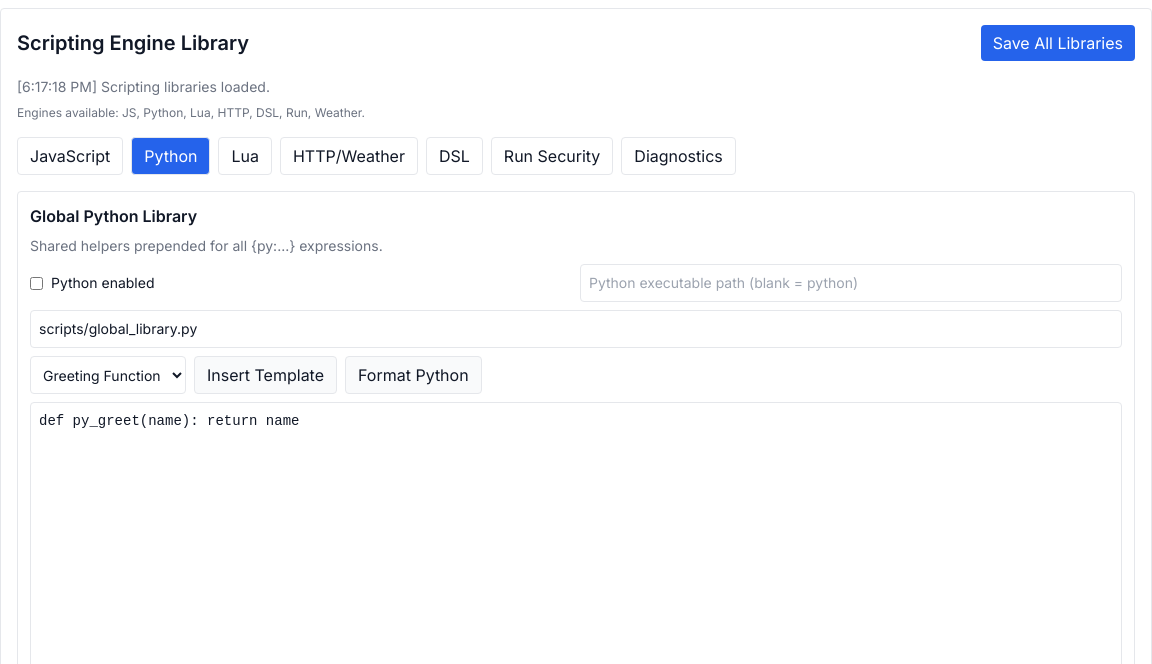
Test case: ScriptTab sub-tabs › runs quick test from HTTP/Weather tab
Check: the heading "Scripting Engine Library" is shown, box [17,29,249,57]
Click the button "HTTP/Weather": (349, 156) [280,137,418,175]
(page scrolled)
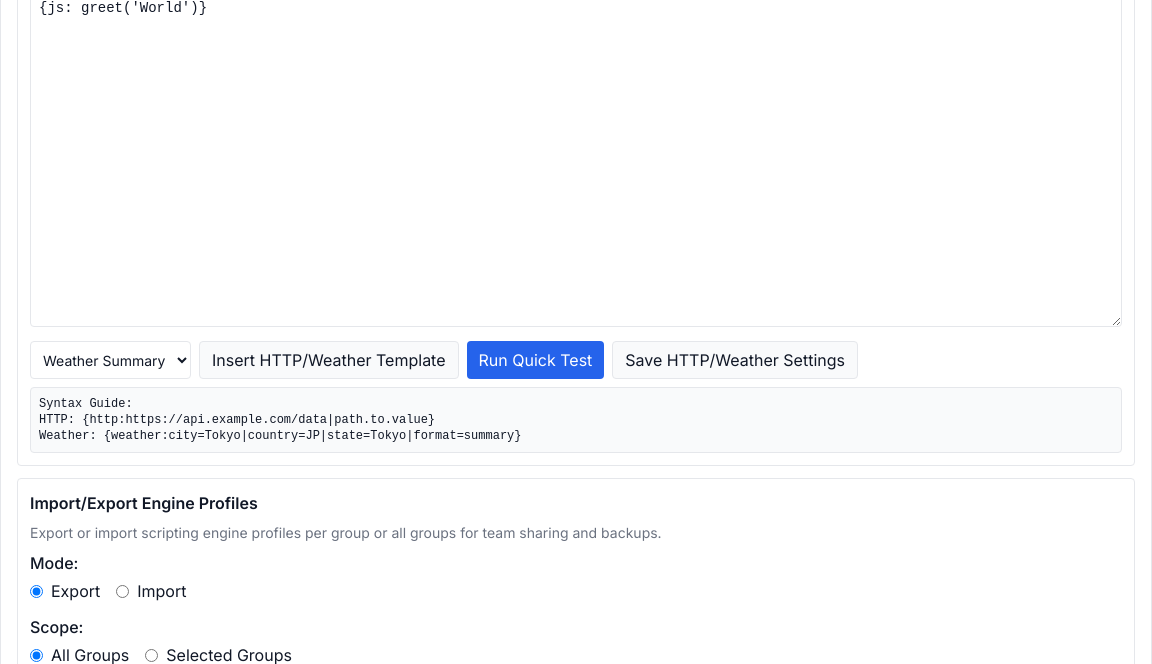
Click the button "Run Quick Test": (535, 360) [466,341,604,379]
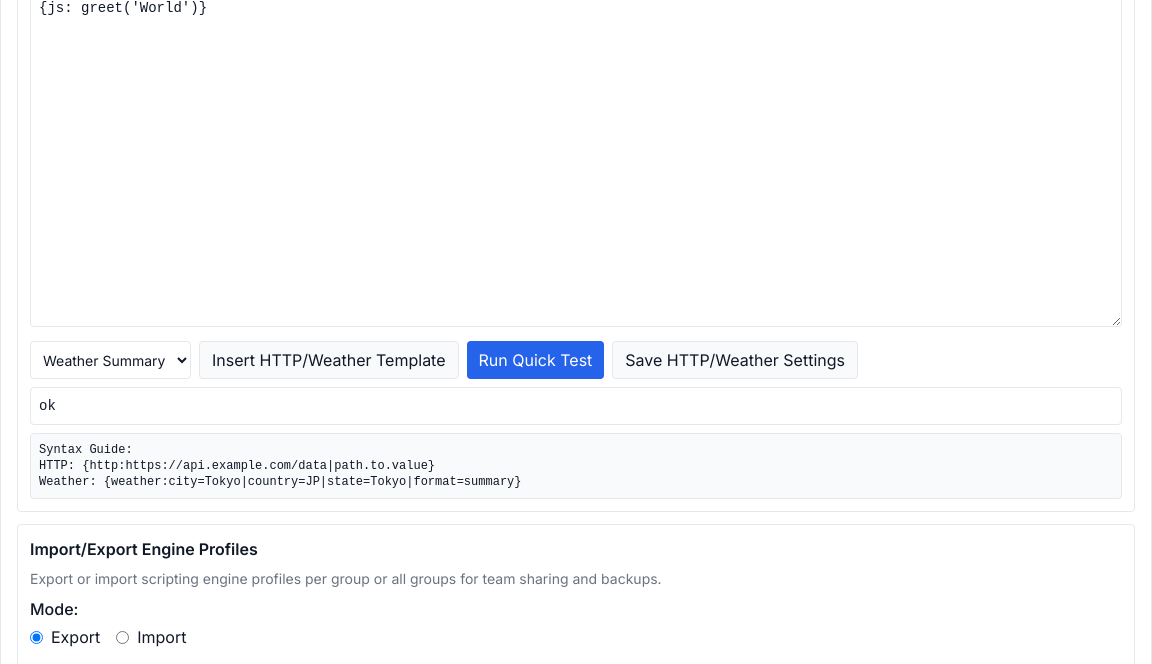
Check: the text "ok" is shown, box [30,387,1122,425]
